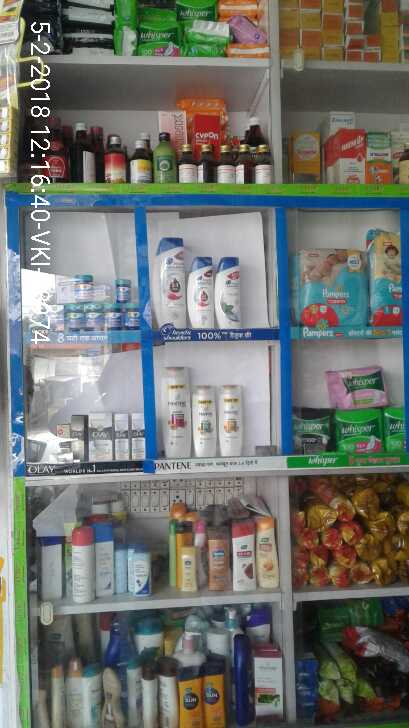vicks: (30, 268, 152, 350)
